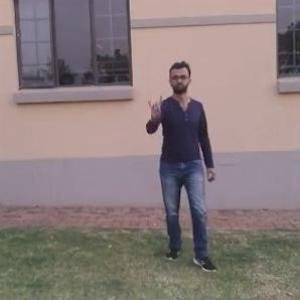takeoff-hand: (138, 91, 169, 124)
